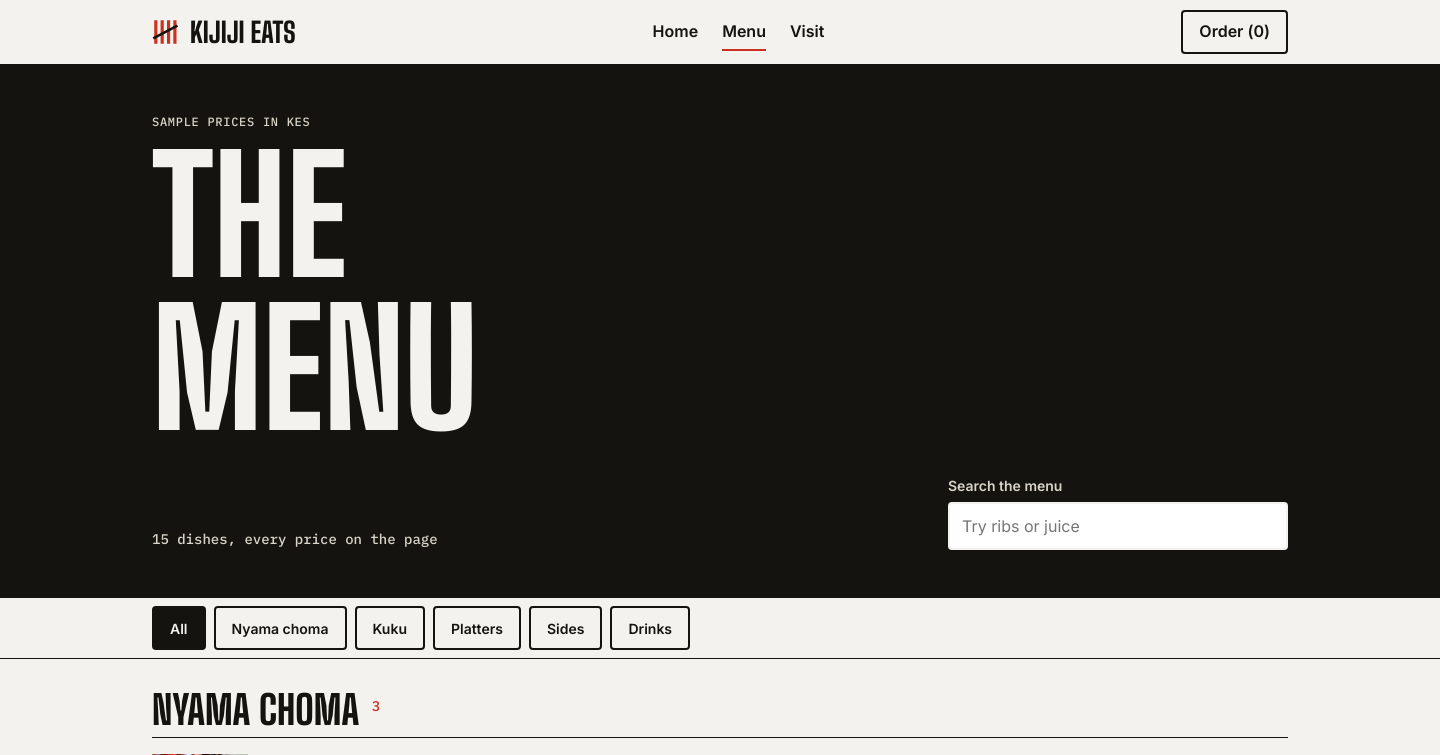
menu › filters by category and shows a no results state
Click the button "Drinks". click: (650, 628)
box: [610,606,690,650]
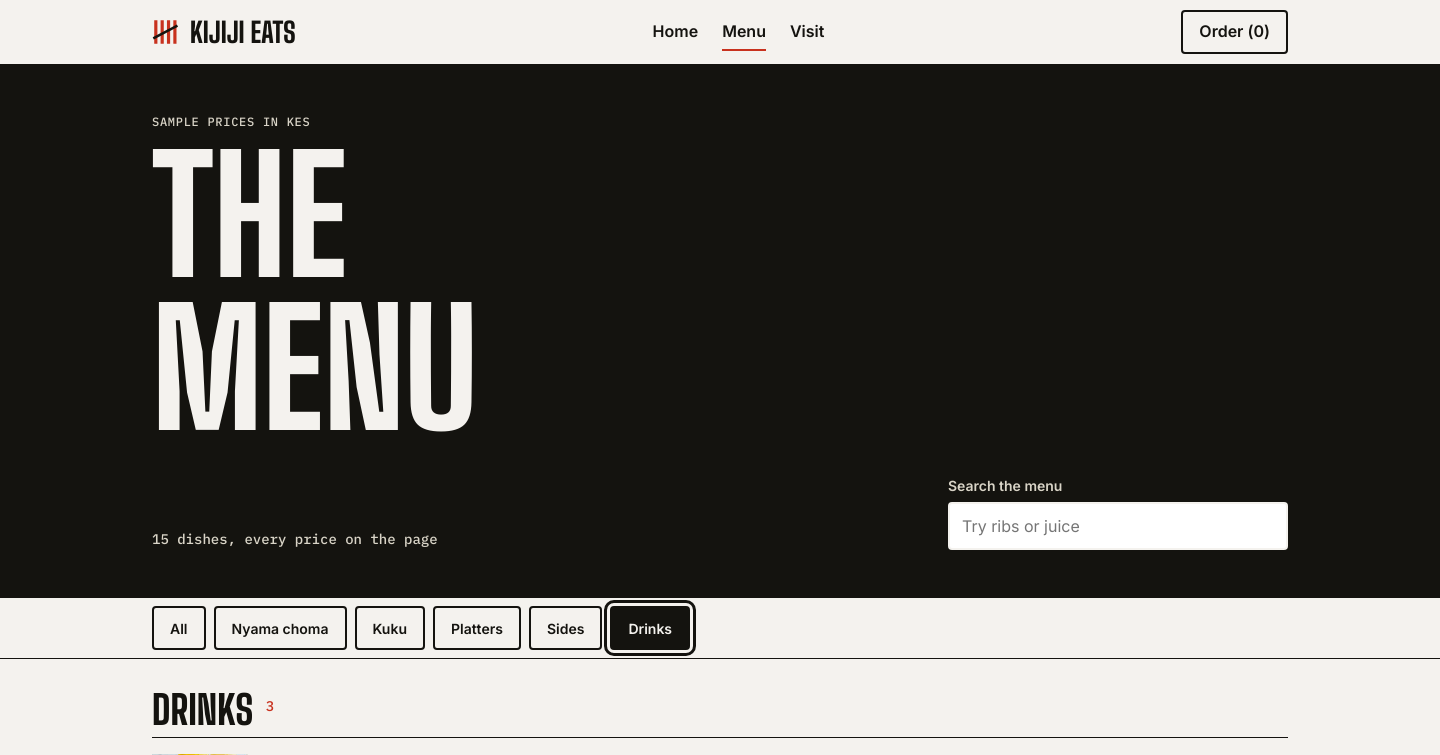
Click the button "All". click: (179, 628)
box: [152,606,206,650]
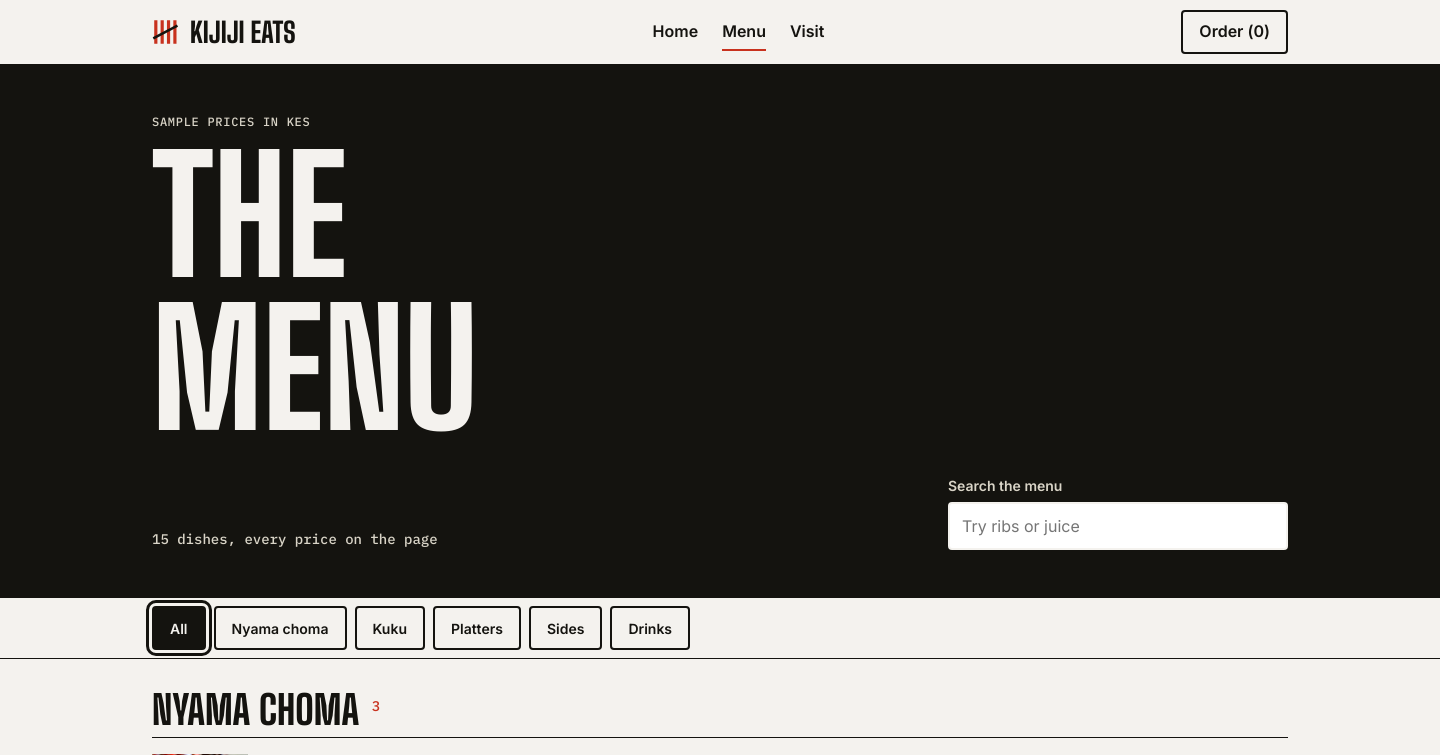
Type "biryani" into the search field labelled "Search the menu". click: (1118, 526)
box: [948,502,1288,550]
(page scrolled)
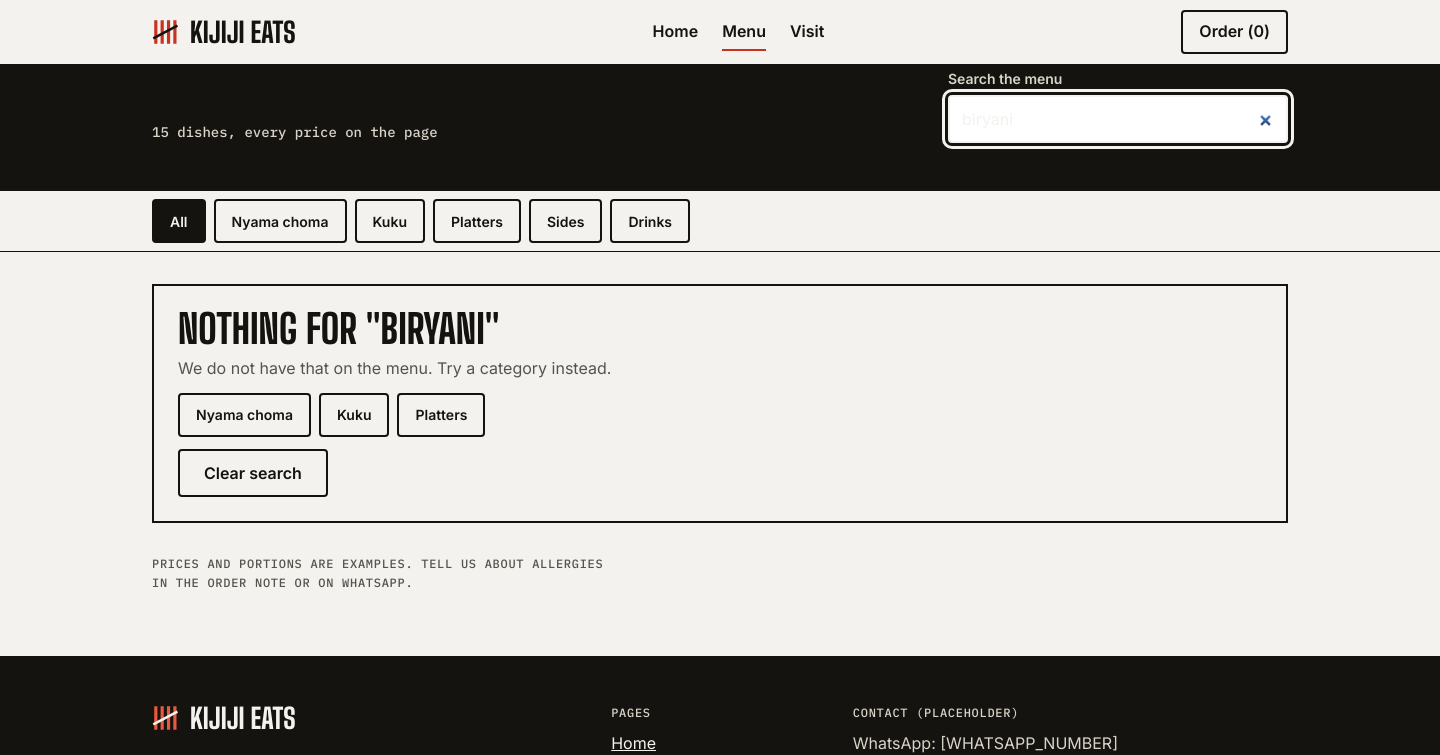
Check: the heading "Nothing for \"biryani\"" is shown, box [178,306,500,354]
Click the button "Clear search". click: (253, 473)
box: [178,449,328,497]
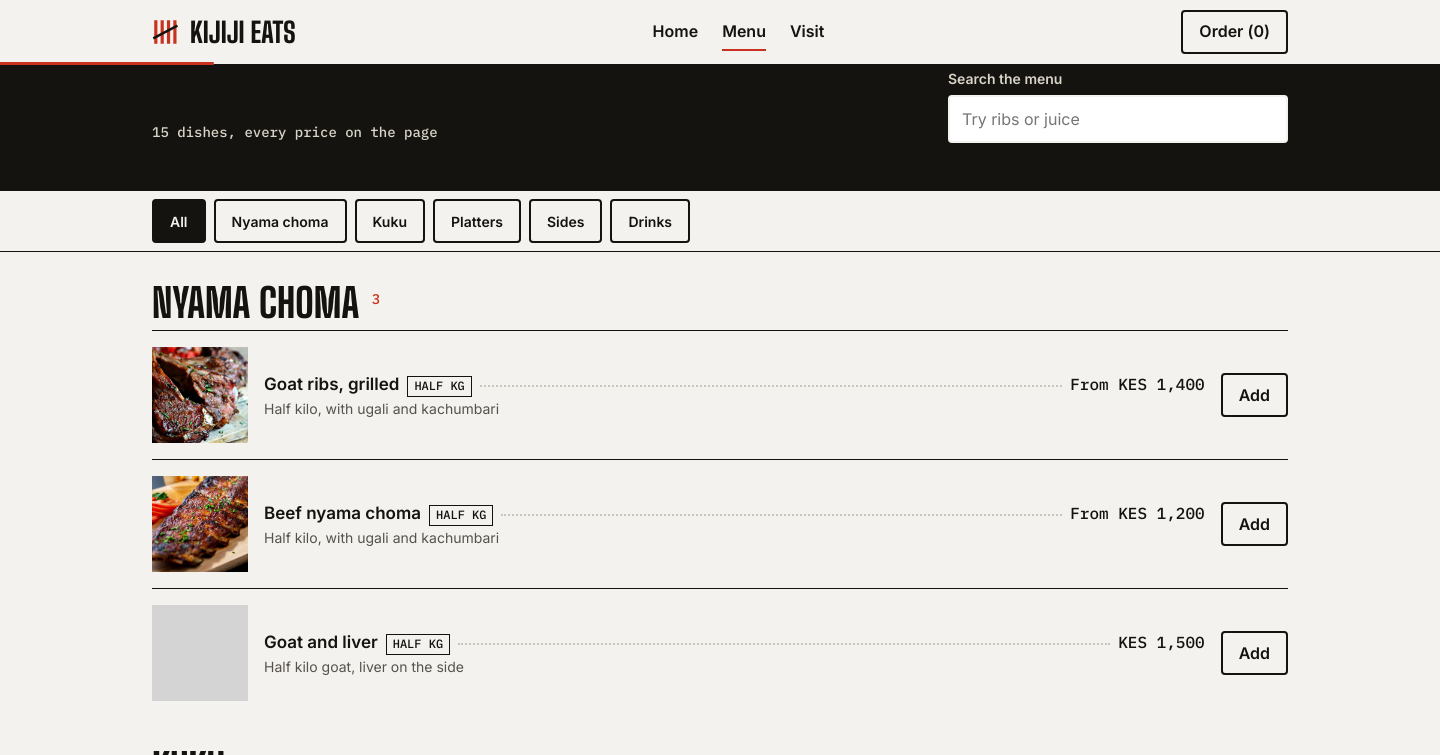
Check: the text "Goat ribs, grilled" is shown, box [264,372,399,398]
